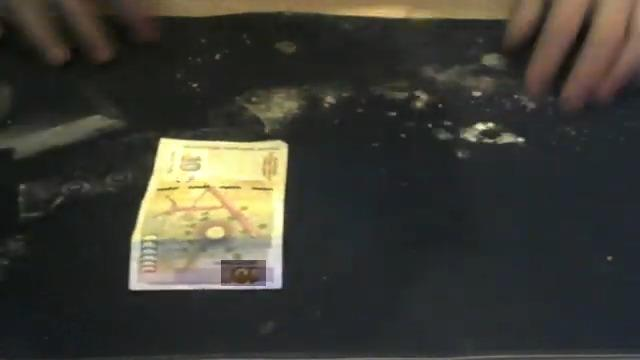10leva: (168, 147, 208, 181), (221, 260, 266, 286)
